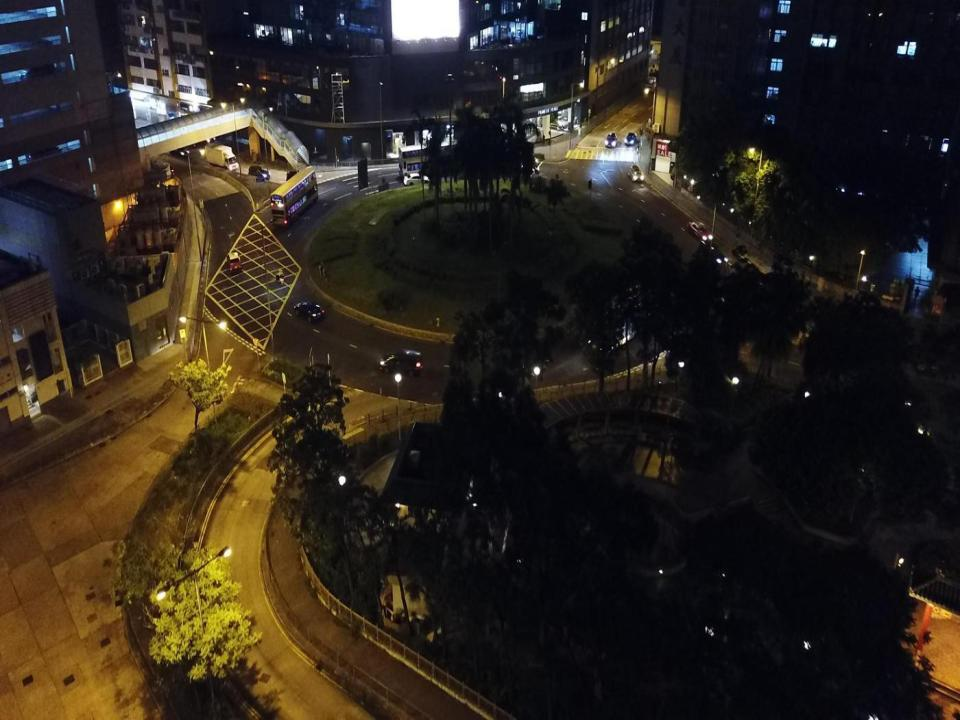bus: (270, 168, 319, 229), (398, 140, 464, 178)
car: (699, 241, 727, 266), (294, 302, 324, 324), (687, 219, 713, 242), (226, 252, 242, 273), (403, 174, 430, 186), (170, 144, 190, 158), (629, 165, 644, 182), (625, 132, 637, 145), (606, 133, 617, 147)
truck: (204, 142, 239, 172)
van: (380, 351, 424, 374), (287, 170, 311, 185), (248, 165, 270, 179)
